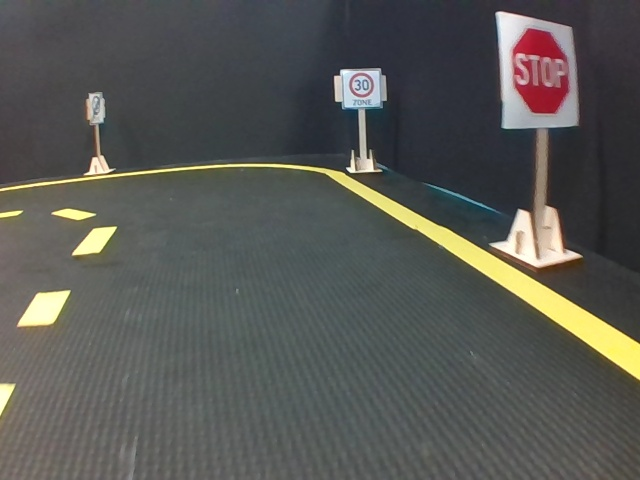30: (343, 70, 377, 105)
no30: (88, 95, 103, 122)
stop: (495, 10, 579, 126)
